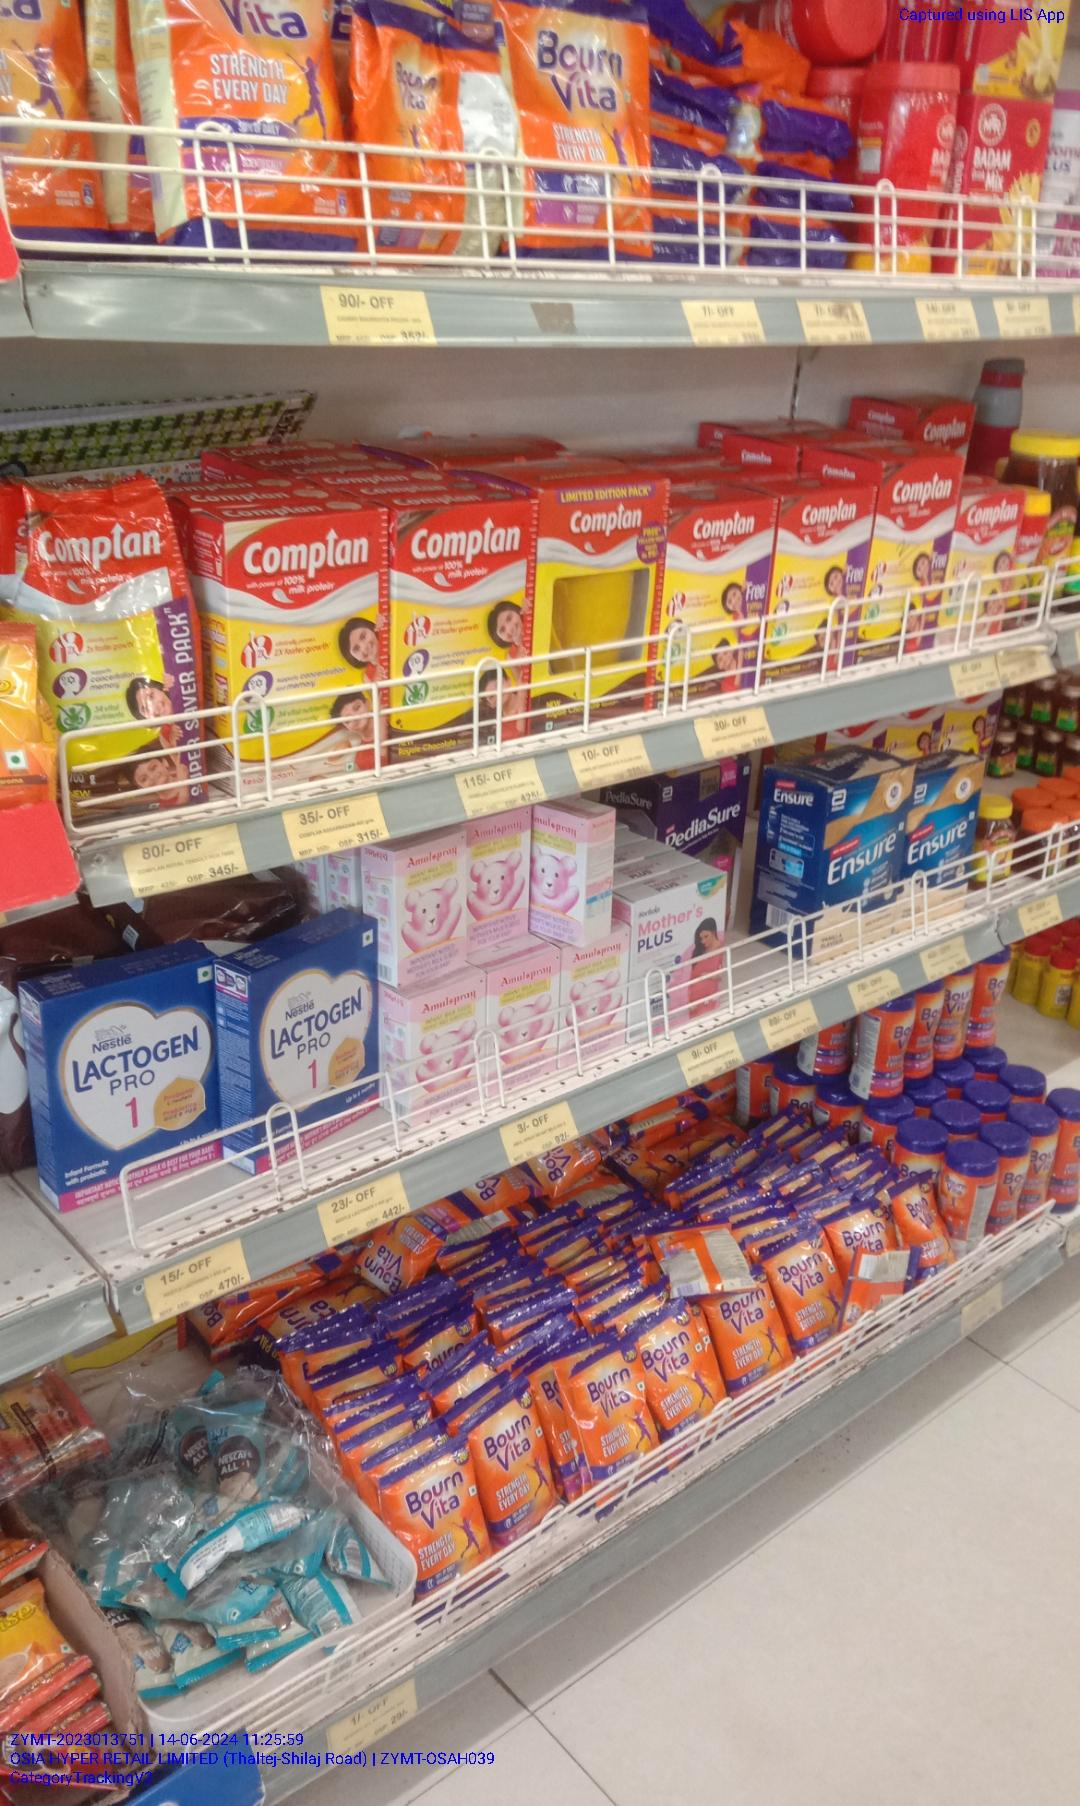BOURN_VITA_500_G_POUCH: (508, 0, 660, 261)
BOURN_VITA_75_G_POUCH: (576, 1347, 653, 1483), (476, 1395, 549, 1537), (657, 1302, 717, 1436), (786, 1235, 841, 1346), (720, 1293, 786, 1384)
COMPLAN_CHOCOLATE_1_KG_PACK: (873, 455, 958, 653)
COMPLAN_CHOCOLATE_200_GMS_PACK: (392, 503, 532, 753), (665, 505, 770, 695), (773, 492, 869, 670)
COMPLAN_KESAR_BADAM_200_GMS_PACK: (226, 517, 390, 776)
COMPLAN_RC_POUCH_700_GMS_12: (44, 478, 210, 827)
